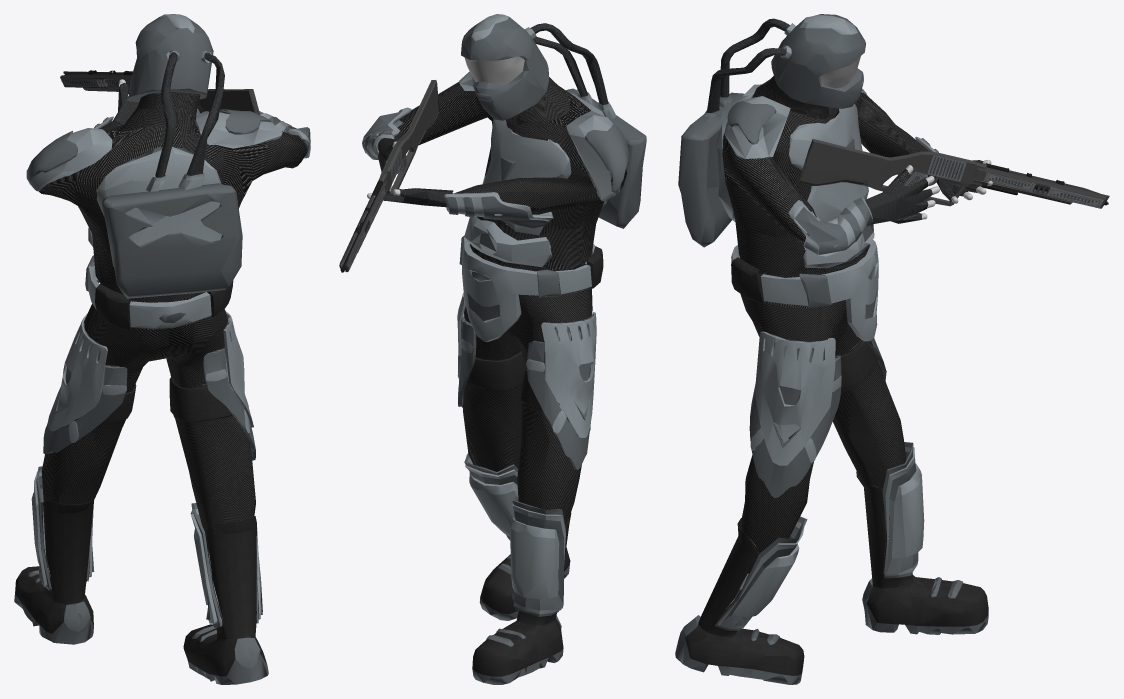
3 renders of one model, left to right at view 1: azimuth 30°, elevation 25°; view 2: azimuth 150°, elevation 25°; view 3: azimuth 270°, elevation 25°, orthographic. The views are drawn at different scales.
Visible parts, largest first — view 1: personaje:extrudedSurface2 polySurface32, personaje:PANTALON polySurface32, personaje:bota1 polySurface32, personaje:CAMISETABUENA polySurface32, personaje:pPipe4 polySurface32, personaje:pCube4 polySurface32, personaje:cinturon polySurface32, personaje:cosoarmdaurapierna1 polySurface32, escopeta:Cylinder001 polySurface32, personaje:polySurface6 polySurface32, personaje:armadbota1 polySurface32, personaje:cosoarmadurapierna2 polySurface32 (+3 smaller); view 2: personaje:PANTALON polySurface32, personaje:CAMISETABUENA polySurface32, personaje:pPipe4 polySurface32, personaje:extrudedSurface2 polySurface32, personaje:cinturon polySurface32, personaje:bota1 polySurface32, personaje:armadbota1 polySurface32, personaje:pCube4 polySurface32, personaje:cosoarmdaurapierna1 polySurface32, escopeta:Cylinder001 polySurface32, personaje:polySurface6 polySurface32, personaje:HOMBRO2 polySurface32 (+6 smaller); view 3: personaje:bota1 polySurface32, personaje:PANTALON polySurface32, personaje:CAMISETABUENA polySurface32, personaje:extrudedSurface2 polySurface32, personaje:pPipe4 polySurface32, personaje:pCube4 polySurface32, escopeta:Cylinder001 polySurface32, personaje:cinturon polySurface32, personaje:armadbota1 polySurface32, personaje:cosoarmadurapierna2 polySurface32, personaje:hombro1 polySurface32, personaje:polySurface6 polySurface32 (+2 smaller).
Boxes of the visible parts, x1,y1,x2,y2 form: personaje:extrudedSurface2 polySurface32: (102,14,242,298); personaje:PANTALON polySurface32: (41,292,255,551); personaje:bota1 polySurface32: (14,499,268,684); personaje:CAMISETABUENA polySurface32: (33,92,307,329); personaje:pPipe4 polySurface32: (26,82,310,247); personaje:pCube4 polySurface32: (35,311,262,627); personaje:cinturon polySurface32: (85,255,233,329); personaje:cosoarmdaurapierna1 polySurface32: (47,313,126,442); escopeta:Cylinder001 polySurface32: (60,70,259,115); personaje:polySurface6 polySurface32: (100,377,232,423); personaje:armadbota1 polySurface32: (31,471,260,623); personaje:cosoarmadurapierna2 polySurface32: (202,347,255,460); personaje:PANTALON polySurface32: (463,248,592,524); personaje:CAMISETABUENA polySurface32: (394,58,626,296); personaje:pPipe4 polySurface32: (363,71,626,267); personaje:extrudedSurface2 polySurface32: (461,14,646,228); personaje:cinturon polySurface32: (459,224,603,341); personaje:bota1 polySurface32: (472,513,570,684); personaje:armadbota1 polySurface32: (465,455,565,614); personaje:pCube4 polySurface32: (457,293,591,616); personaje:cosoarmdaurapierna1 polySurface32: (526,312,596,437); escopeta:Cylinder001 polySurface32: (339,80,439,272); personaje:polySurface6 polySurface32: (467,349,541,407); personaje:HOMBRO2 polySurface32: (585,124,628,191); personaje:bota1 polySurface32: (675,471,988,684); personaje:PANTALON polySurface32: (740,250,905,573); personaje:CAMISETABUENA polySurface32: (722,76,929,308); personaje:extrudedSurface2 polySurface32: (678,14,865,247); personaje:pPipe4 polySurface32: (715,84,983,268); personaje:pCube4 polySurface32: (715,331,918,630); escopeta:Cylinder001 polySurface32: (799,139,1109,208); personaje:cinturon polySurface32: (731,240,878,341); personaje:armadbota1 polySurface32: (717,447,924,628); personaje:cosoarmadurapierna2 polySurface32: (749,342,841,498); personaje:hombro1 polySurface32: (727,101,776,144); personaje:polySurface6 polySurface32: (841,341,878,388).
Bounding box in the file's own units: 4.26 × 9.6 × 5.72.
